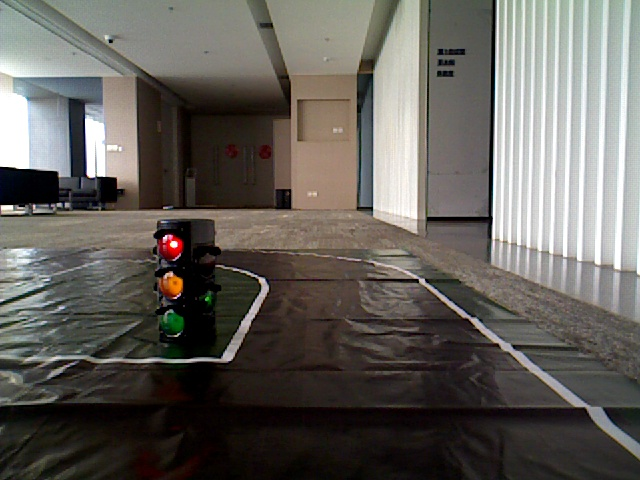red: (155, 225, 194, 339)
